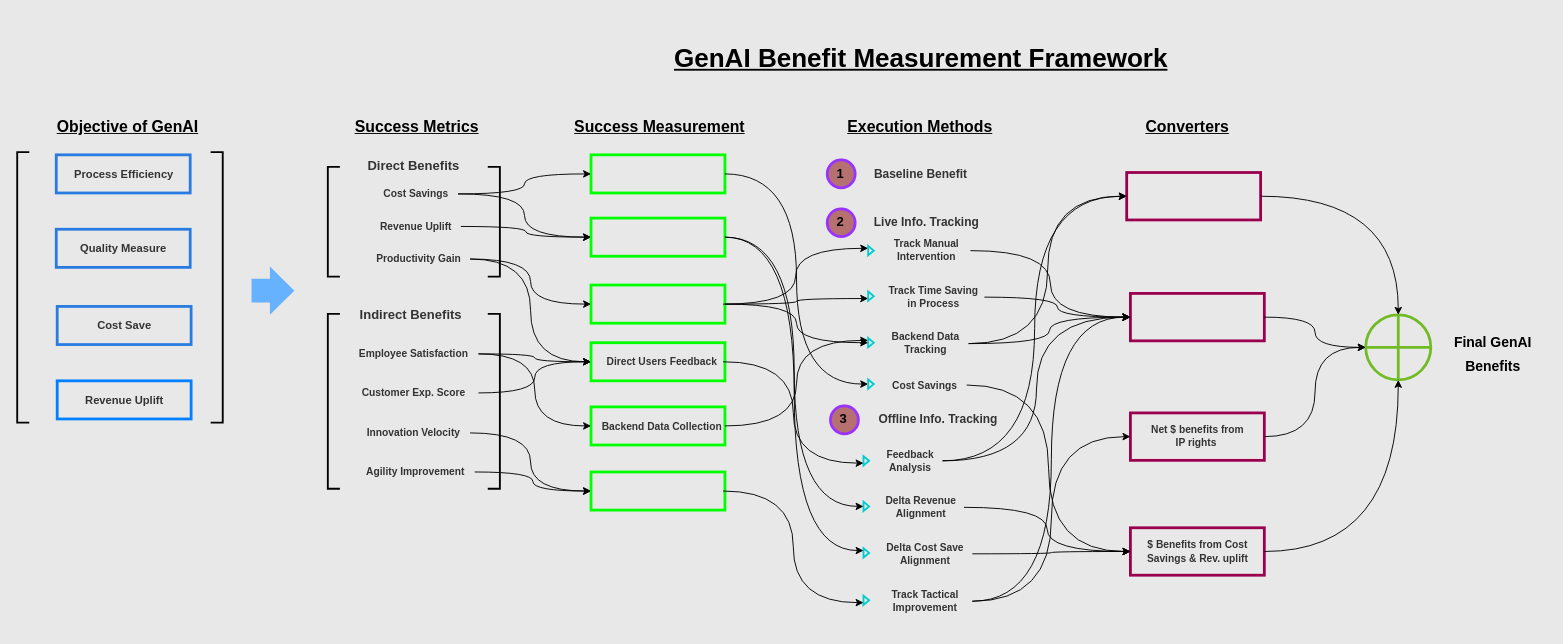
Image size: 1563x644. Some labels were removed from this diagram. The centre of each missing label's shape, as x and y in pixels:
Hours Saving to $ benefit converter: point 1197,317
Live Direct Measurement ($): point 657,173
Live Direct Measurement (non-$): point 657,303
Offline Direct Measurement ($): point 657,236
Offline Indirect Measure (non-$): point 657,490
Users' Feedback to CSAT to $ Converter: point 1193,196
